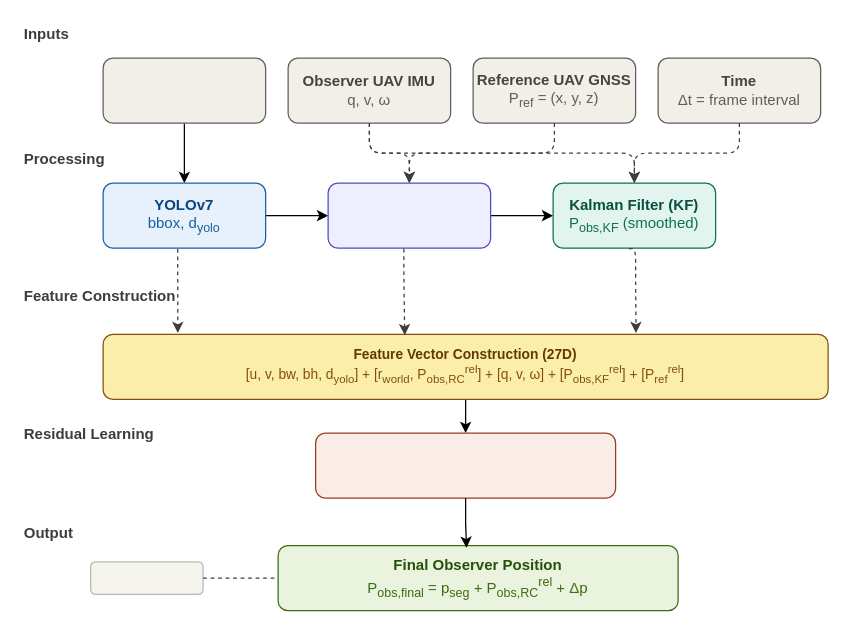
The diagram is 850 pixels wide and 633 high, and some of its shapes have lost their labels. Each missing label, with the centre of its shape:
"MLP Model Δp = [Δx, Δy, Δz]" goes at (465,465).
"Observer UAV Camera 640×480 RGB" goes at (184,90).
"Ray Casting P obs,RC , r world" goes at (409,215).
"Segment origin" goes at (146,577).
